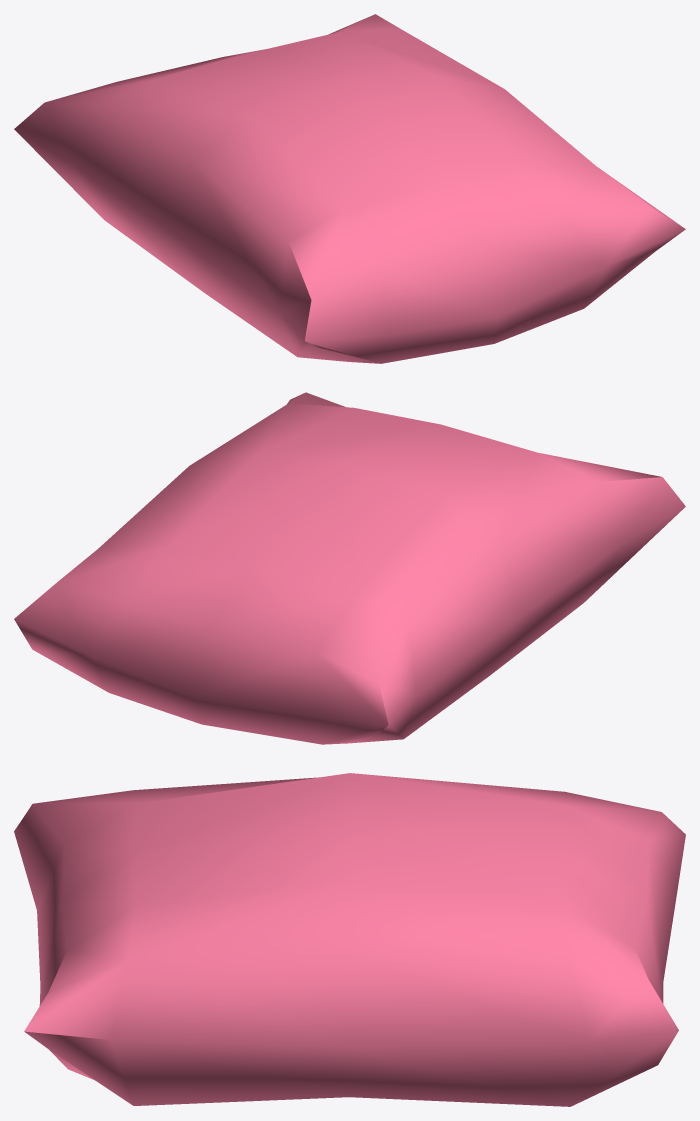
The model's file is Bed_Pillow_0.fbx.
3 views of the same model, one above another, from view 1: azimuth 30°, elevation 25°; view 2: azimuth 150°, elevation 25°; view 3: azimuth 270°, elevation 25° (orthographic). The views are drawn at different scales.
Parts seen in each view (by area): view 1: Bed_Pillow_0; view 2: Bed_Pillow_0; view 3: Bed_Pillow_0.
Part boxes in pixels (x1,y1,x2,y2): Bed_Pillow_0: (14,14,685,363); Bed_Pillow_0: (14,392,685,744); Bed_Pillow_0: (14,773,685,1106).
Bounding box in the file's own units: 50.05 × 25.41 × 65.6.
